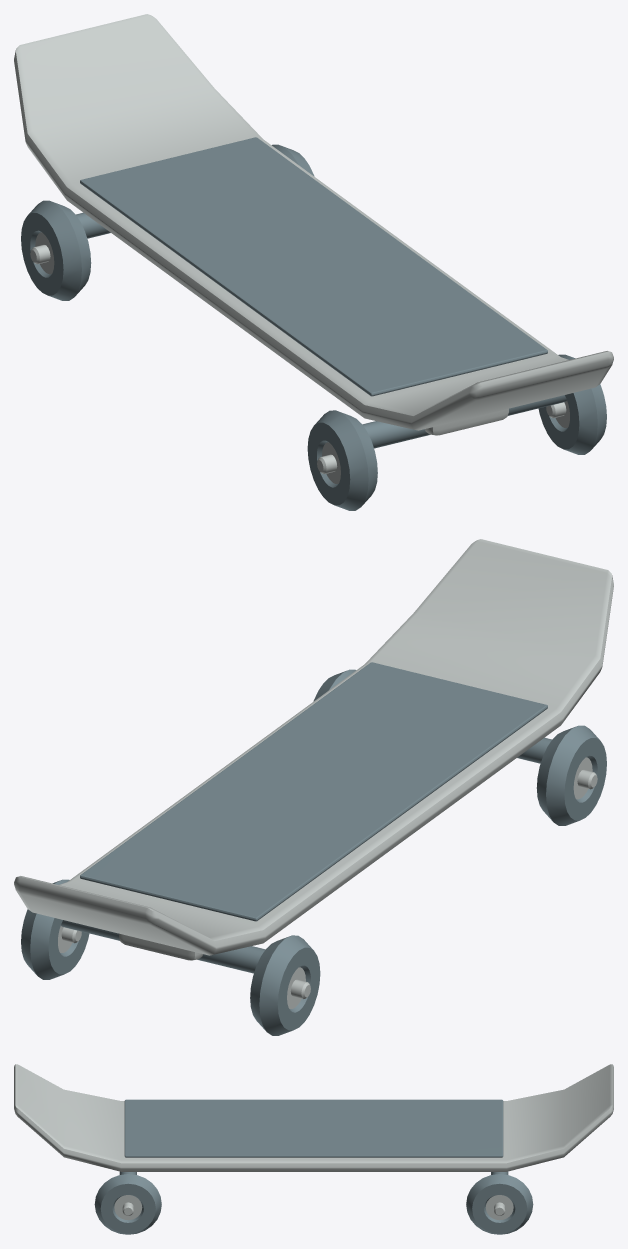
The model's file is skateboard.glb.
3 renders of one model, top to bottom at view 1: azimuth 30°, elevation 25°; view 2: azimuth 150°, elevation 25°; view 3: azimuth 270°, elevation 25°, orthographic. The views are drawn at different scales.
Visible parts, largest first — view 1: grip_tape, curved_deck, urethane_wheel_tire.002, urethane_wheel_tire, urethane_wheel_tire.003, axle.001, truck.001; view 2: grip_tape, curved_deck, urethane_wheel_tire, urethane_wheel_tire.002, urethane_wheel_tire.001, axle, truck; view 3: grip_tape, curved_deck, urethane_wheel_tire.001, urethane_wheel_tire.003, urethane_wheel_rim.001, urethane_wheel_rim.003.
Part boxes in pixels (x1,y1,x2,y2): grip_tape: (80,137,547,396); curved_deck: (14,14,613,430); urethane_wheel_tire.002: (307,410,377,510); urethane_wheel_tire: (21,200,91,300); urethane_wheel_tire.003: (538,354,606,454); axle.001: (362,395,566,448); truck.001: (425,408,508,435); grip_tape: (80,662,547,921); curved_deck: (14,539,613,955); urethane_wheel_tire: (250,935,320,1035); urethane_wheel_tire.002: (536,725,606,825); urethane_wheel_tire.001: (21,879,89,979); axle: (61,920,265,973); truck: (119,933,202,960); grip_tape: (124,1099,503,1157); curved_deck: (14,1064,613,1171); urethane_wheel_tire.001: (466,1174,533,1234); urethane_wheel_tire.003: (94,1174,161,1234); urethane_wheel_rim.001: (485,1195,513,1220); urethane_wheel_rim.003: (114,1195,142,1220).
Size of the model in its own units: 0.2871 by 0.1766 by 0.84.
